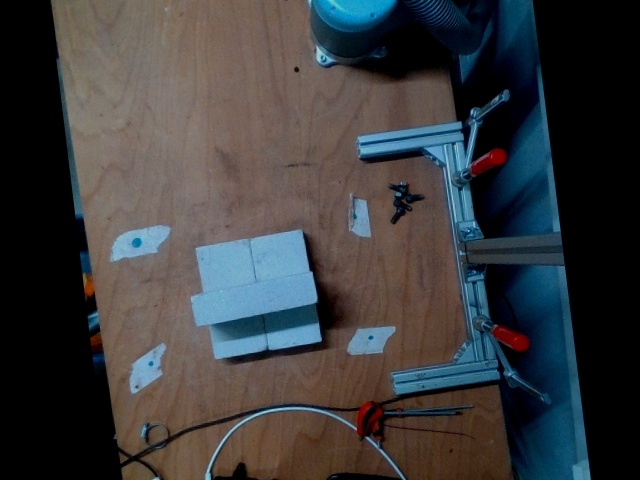brick-side: (191, 271, 317, 328)
